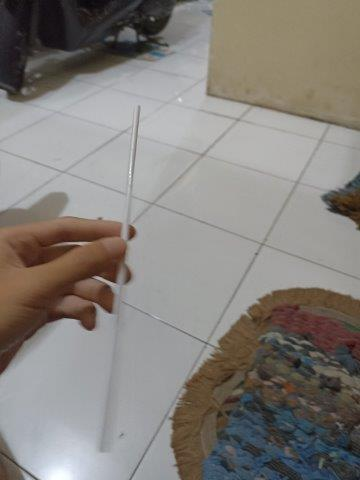sedotan: (98, 107, 139, 443)
